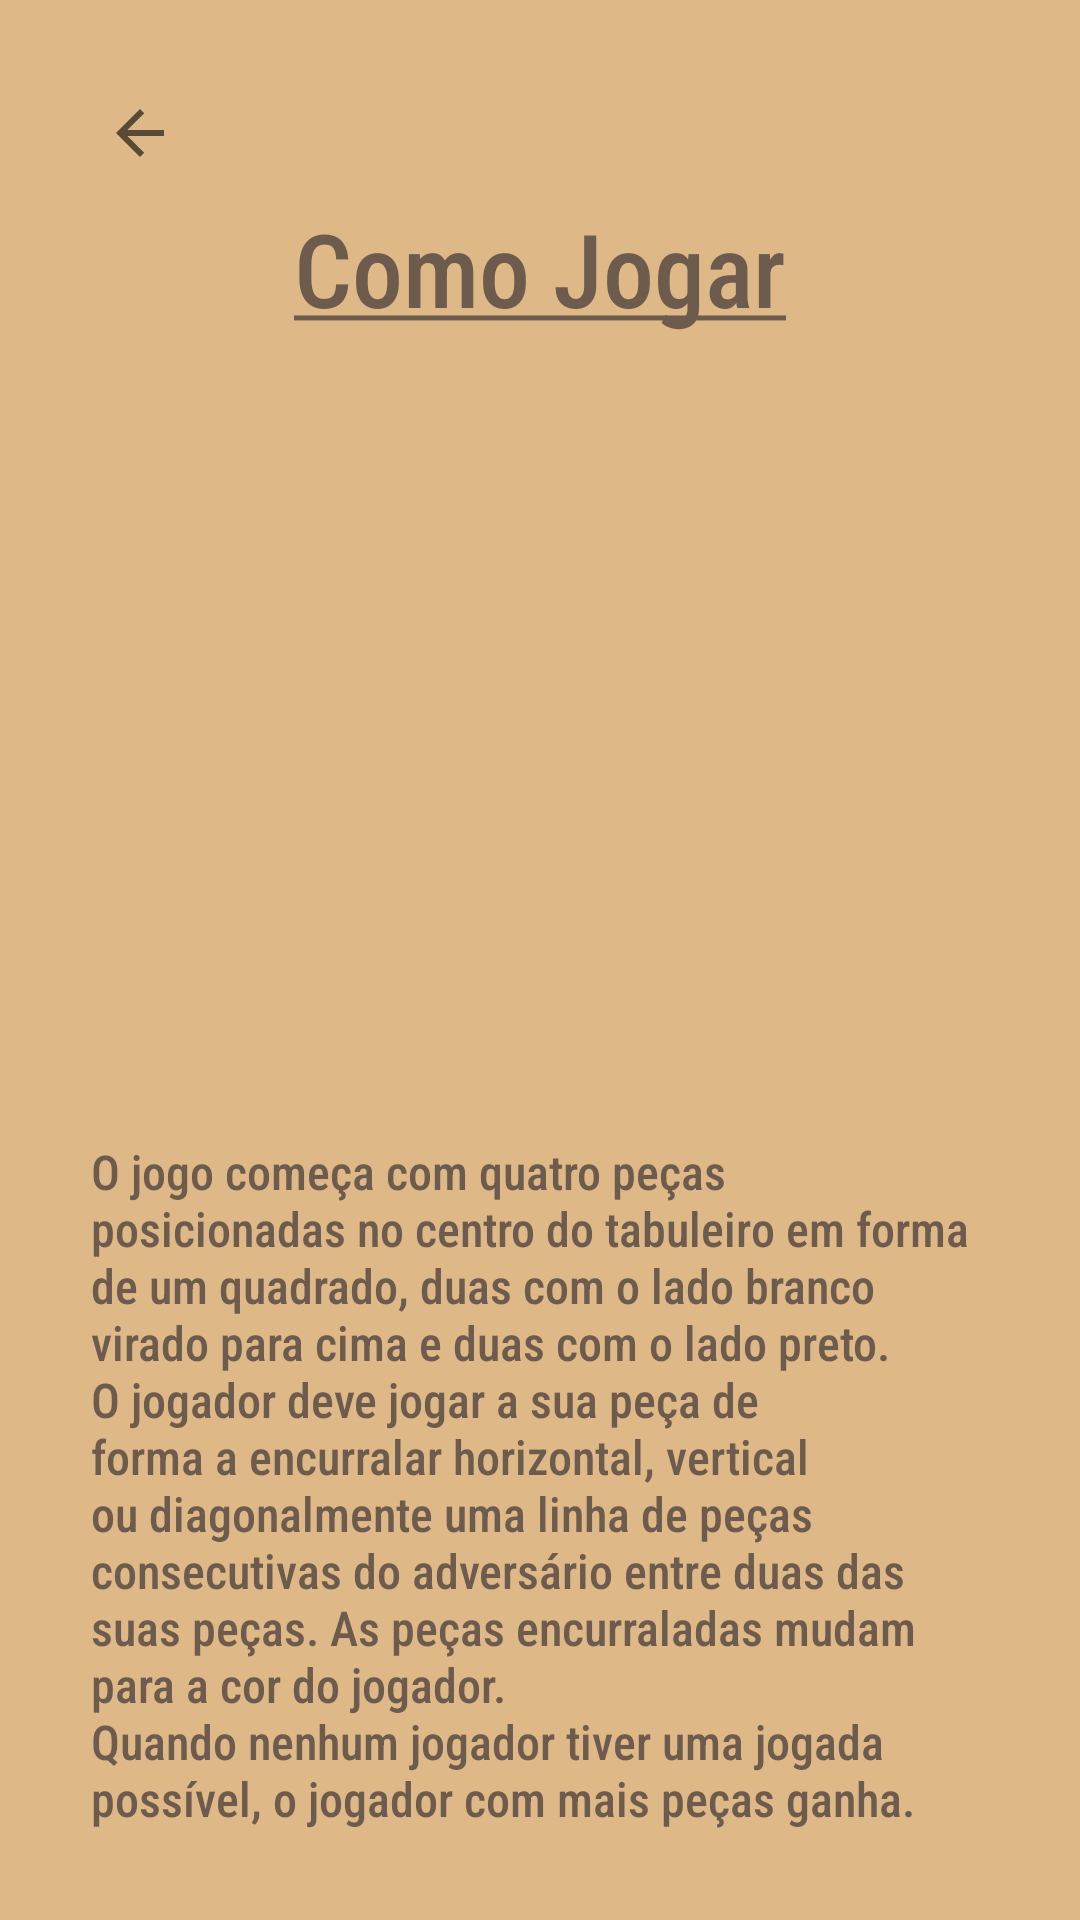

Icon click points for this 1080 × 1920 phone screenshot, format point (x, y):
A back button: point (140, 133)
